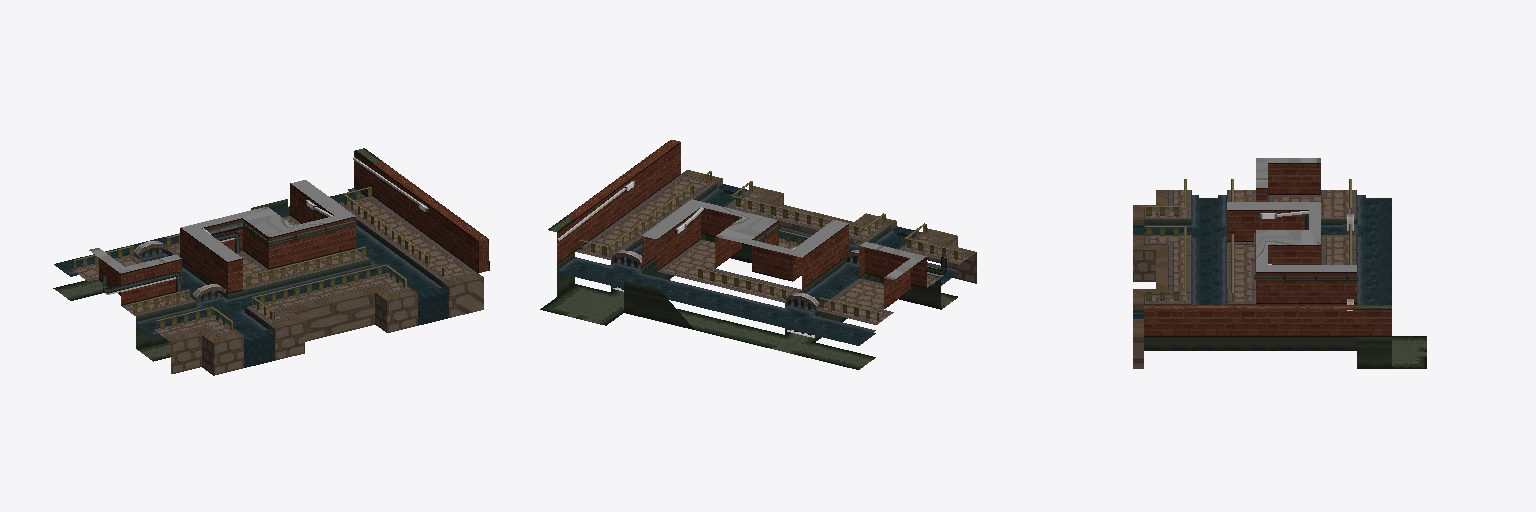
3 renders of one model, left to right at view 1: azimuth 30°, elevation 25°; view 2: azimuth 150°, elevation 25°; view 3: azimuth 270°, elevation 25°, orthographic.
Visible parts, largest first — view 1: polygon5, polygon6, polygon3, polygon4, polygon7, polygon10, polygon0, polygon2, polygon18, polygon19, polygon8; view 2: polygon6, polygon5, polygon3, polygon19, polygon0, polygon4, polygon7, polygon10, polygon2, polygon8, polygon20; view 3: polygon6, polygon5, polygon3, polygon0, polygon7, polygon4, polygon2, polygon10, polygon19, polygon18.
Part boxes in pixels (left/top/right/bottom): polygon5: left=74, top=199, right=483, bottom=375; polygon6: left=99, top=151, right=489, bottom=305; polygon3: left=54, top=193, right=448, bottom=367; polygon4: left=71, top=196, right=477, bottom=337; polygon7: left=89, top=180, right=355, bottom=273; polygon10: left=74, top=187, right=447, bottom=330; polygon0: left=136, top=183, right=442, bottom=347; polygon2: left=67, top=188, right=441, bottom=335; polygon18: left=103, top=219, right=357, bottom=293; polygon19: left=53, top=148, right=381, bottom=361; polygon8: left=134, top=198, right=340, bottom=302; polygon6: left=557, top=140, right=926, bottom=308; polygon5: left=584, top=170, right=976, bottom=322; polygon3: left=558, top=184, right=957, bottom=345; polygon19: left=540, top=217, right=957, bottom=369; polygon0: left=557, top=183, right=940, bottom=341; polygon4: left=575, top=174, right=969, bottom=324; polygon7: left=642, top=199, right=926, bottom=279; polygon10: left=579, top=171, right=962, bottom=321; polygon2: left=558, top=188, right=958, bottom=333; polygon8: left=612, top=250, right=858, bottom=335; polygon20: left=567, top=295, right=615, bottom=315; polygon6: left=1144, top=163, right=1391, bottom=336; polygon5: left=1133, top=190, right=1350, bottom=368; polygon3: left=1133, top=198, right=1391, bottom=318; polygon0: left=1144, top=220, right=1391, bottom=368; polygon7: left=1227, top=158, right=1356, bottom=271; polygon4: left=1144, top=190, right=1356, bottom=303; polygon2: left=1144, top=195, right=1365, bottom=304; polygon10: left=1146, top=179, right=1351, bottom=300; polygon19: left=1357, top=305, right=1426, bottom=368; polygon18: left=1254, top=214, right=1357, bottom=280.
Size of the model in its own units: 8.12 by 1.75 by 6.25.
21 materials, 19 textured.